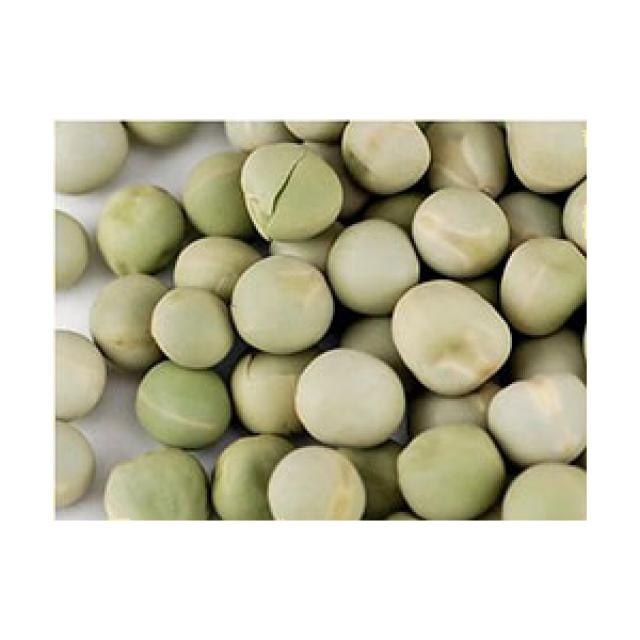Peas: (54, 122, 584, 516)
